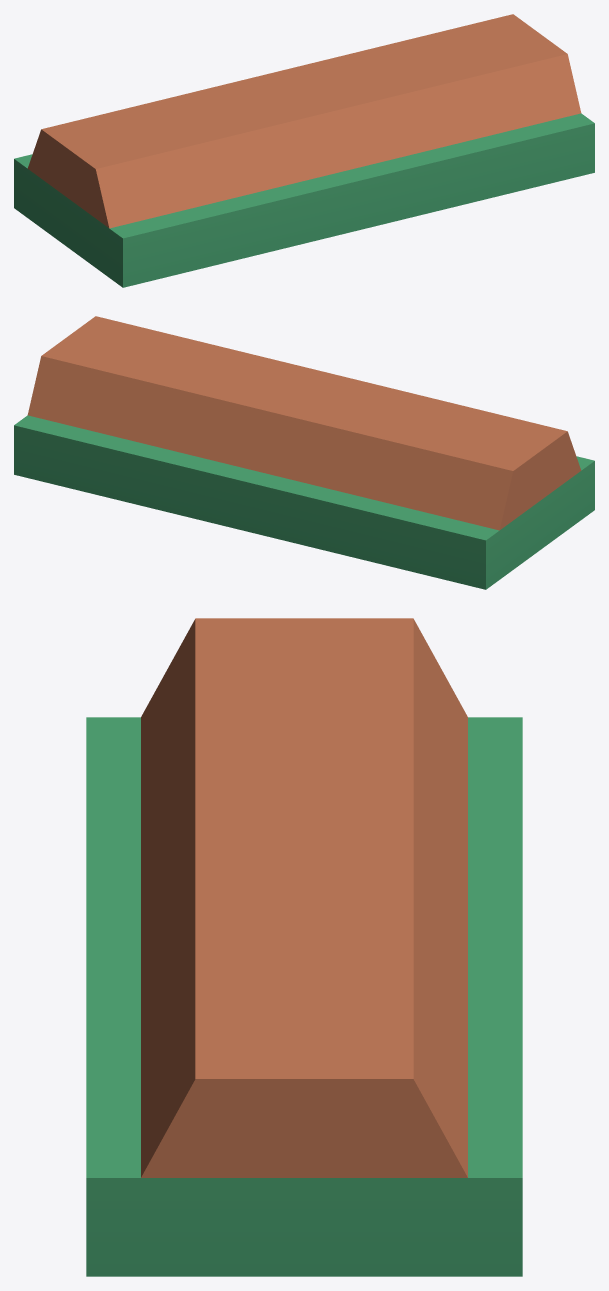
The model's file is cabin-doorway-center.glb.
The picture shows the model from 3 angles, top to bottom: view 1: azimuth 30°, elevation 25°; view 2: azimuth 150°, elevation 25°; view 3: azimuth 270°, elevation 25°; orthographic projection. The views are drawn at different scales.
Visible parts, largest first — view 1: cabin-doorway-center; view 2: cabin-doorway-center; view 3: cabin-doorway-center.
Part boxes in pixels (x1,y1,x2,y2): cabin-doorway-center: (14,14,594,287); cabin-doorway-center: (14,316,594,589); cabin-doorway-center: (86,618,522,1276).
Bounding box in the file's own units: 1 × 0.2 × 0.4.
